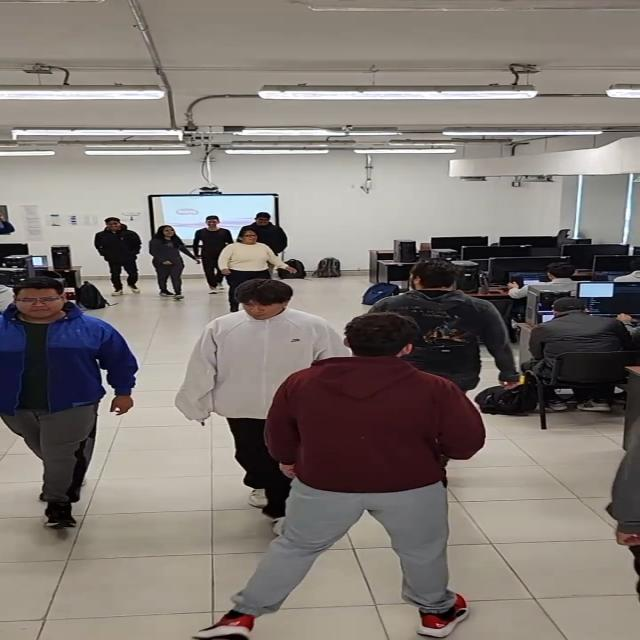Persona: (261, 313, 486, 638), (2, 276, 135, 538), (180, 282, 310, 522), (94, 215, 143, 300), (223, 227, 280, 285), (146, 225, 188, 302), (192, 212, 229, 290)
